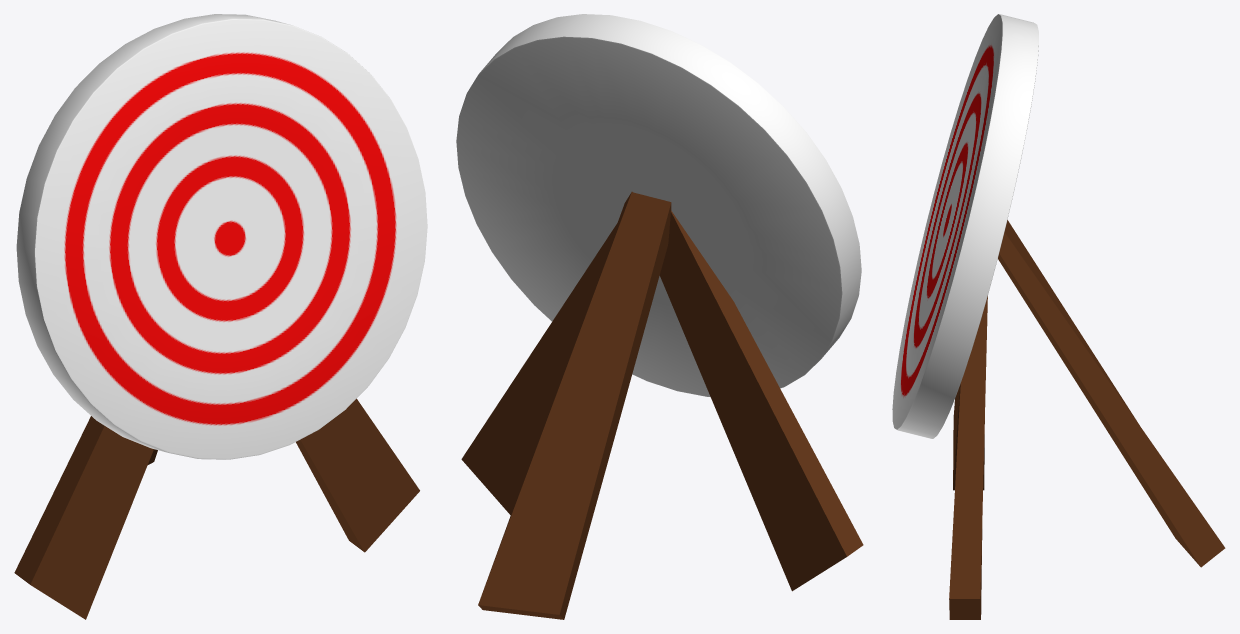
Rendered from Diana.FBX.
The picture shows the model from 3 angles, left to right: view 1: azimuth 30°, elevation 25°; view 2: azimuth 150°, elevation 25°; view 3: azimuth 270°, elevation 25°; orthographic projection. The views are drawn at different scales.
Visible parts, largest first — view 1: Diana; view 2: Diana; view 3: Diana.
Boxes of the visible parts, box(x1,y1,x2,y2) form: Diana: box(14, 14, 427, 619); Diana: box(456, 14, 863, 619); Diana: box(892, 14, 1225, 619).
Size of the model in its own units: 22.24 by 29.48 by 17.01.
2 materials, 1 textured.
